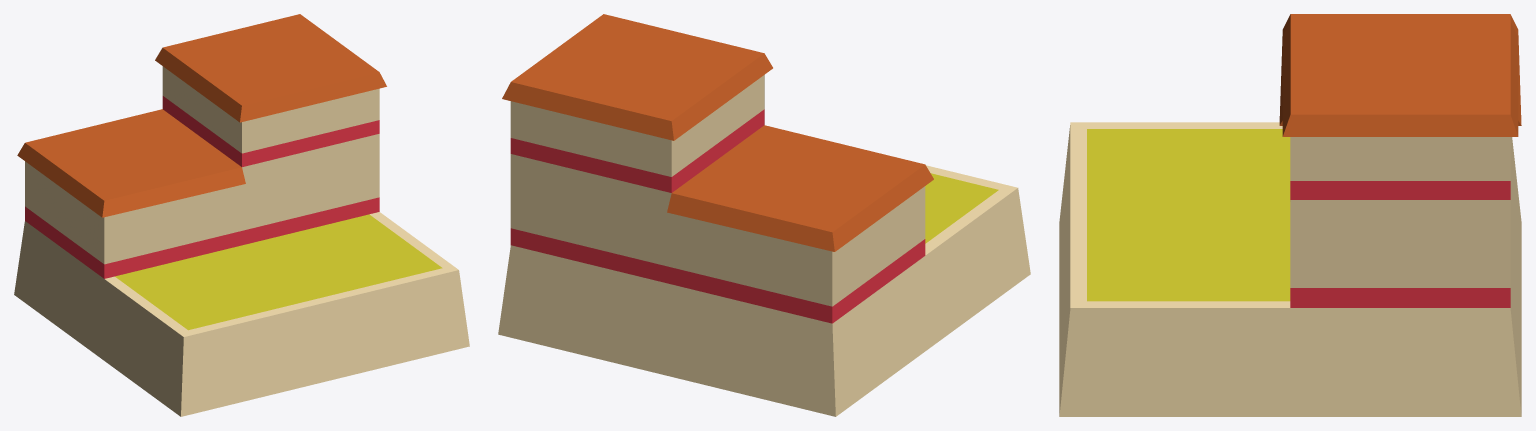
Rendered from House_19.fbx.
3 renders of one model, left to right at view 1: azimuth 30°, elevation 25°; view 2: azimuth 150°, elevation 25°; view 3: azimuth 270°, elevation 25°, orthographic. The views are drawn at different scales.
Parts seen in each view (by area): view 1: House_19; view 2: House_19; view 3: House_19.
Part boxes in pixels (x1=…): House_19: x1=14, y1=14, x2=469, y2=416; House_19: x1=498, y1=14, x2=1030, y2=416; House_19: x1=1059, y1=14, x2=1521, y2=416.
Bounding box in the file's own units: 210 × 149 × 210.
